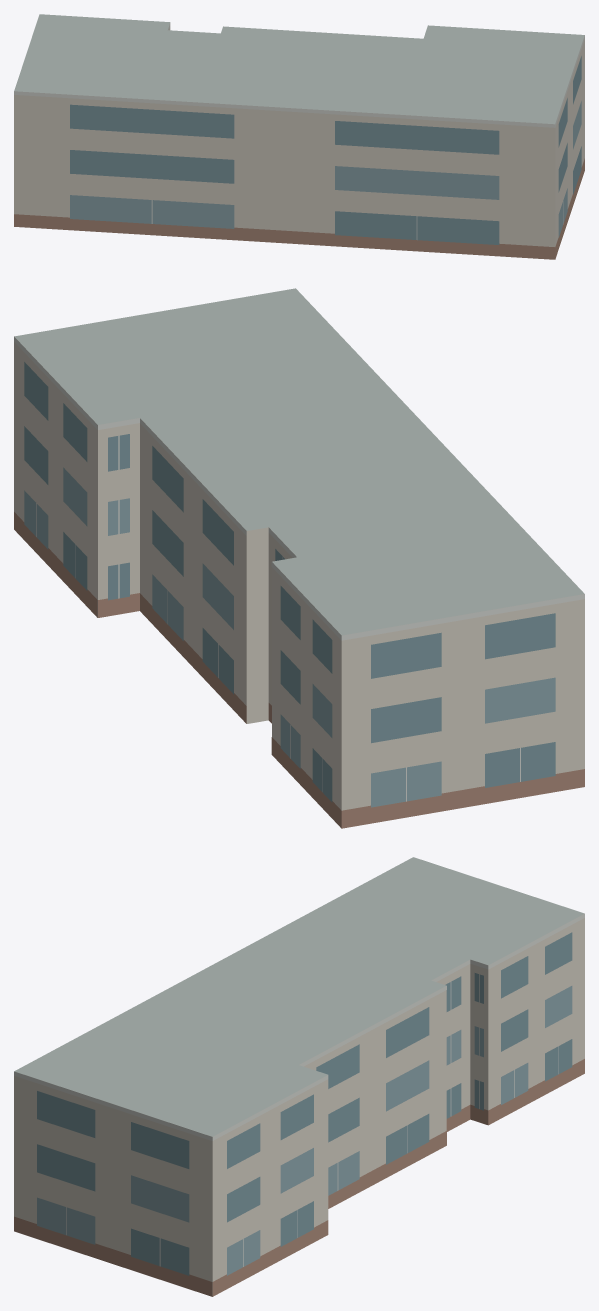
Rendered from survey-upis-32773163.glb.
3 renders of one model, top to bottom at view 1: azimuth 30°, elevation 25°; view 2: azimuth 150°, elevation 25°; view 3: azimuth 270°, elevation 25°, orthographic. The views are drawn at different scales.
Parts seen in each view (by area): view 1: survey-upis-32773163.tmp; view 2: survey-upis-32773163.tmp; view 3: survey-upis-32773163.tmp.
Boxes of the visible parts, bbox=[...] form: survey-upis-32773163.tmp: bbox=[14, 14, 584, 259]; survey-upis-32773163.tmp: bbox=[14, 288, 584, 828]; survey-upis-32773163.tmp: bbox=[14, 857, 584, 1296].
Size of the model in its own units: 34.33 by 9.15 by 29.59.
